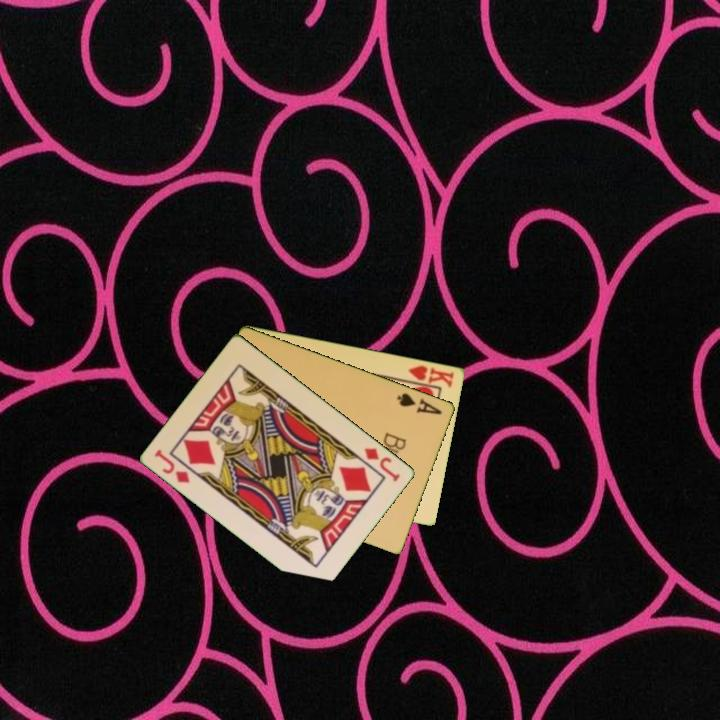As: (394, 389, 445, 417)
Jd: (361, 444, 403, 485), (151, 446, 193, 486)
Kh: (401, 361, 457, 390)
